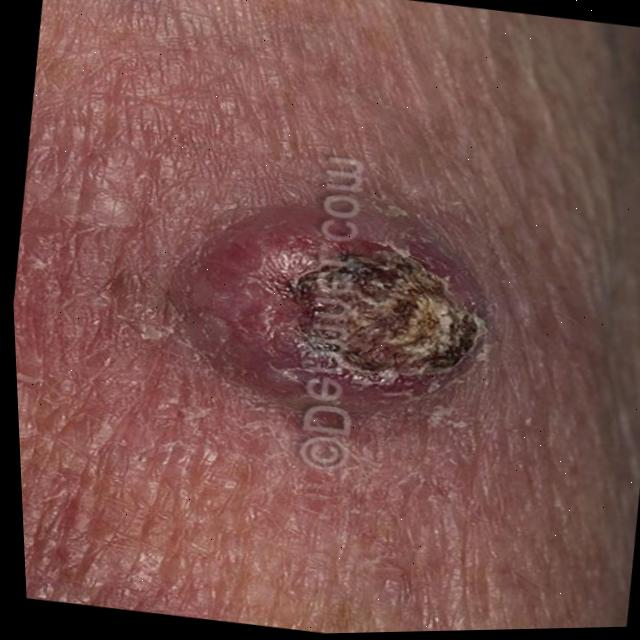Eczema: (275, 238, 511, 404)
